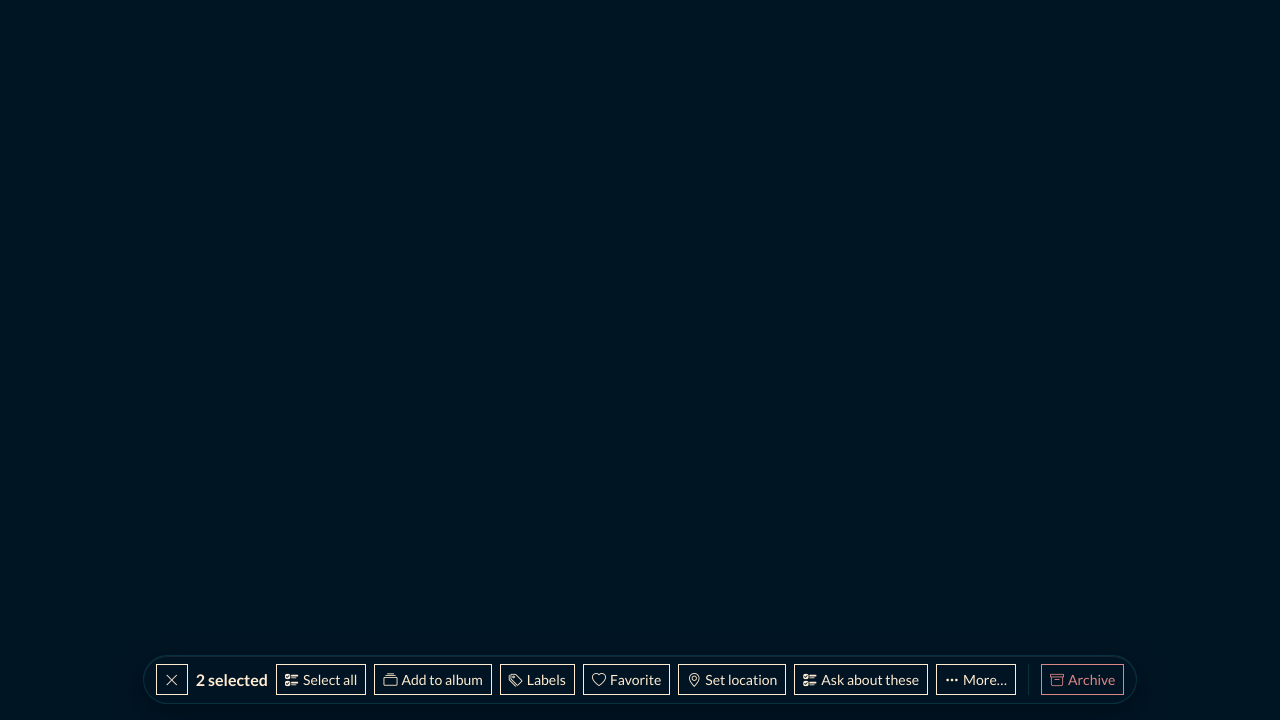
BatchActionBar › leaves the selection intact and toasts the reason when a batch fails
The image size is (1280, 720).
Click the button "Archive". click: (1083, 680)
box: x1=1041 y1=664 x2=1124 y2=695
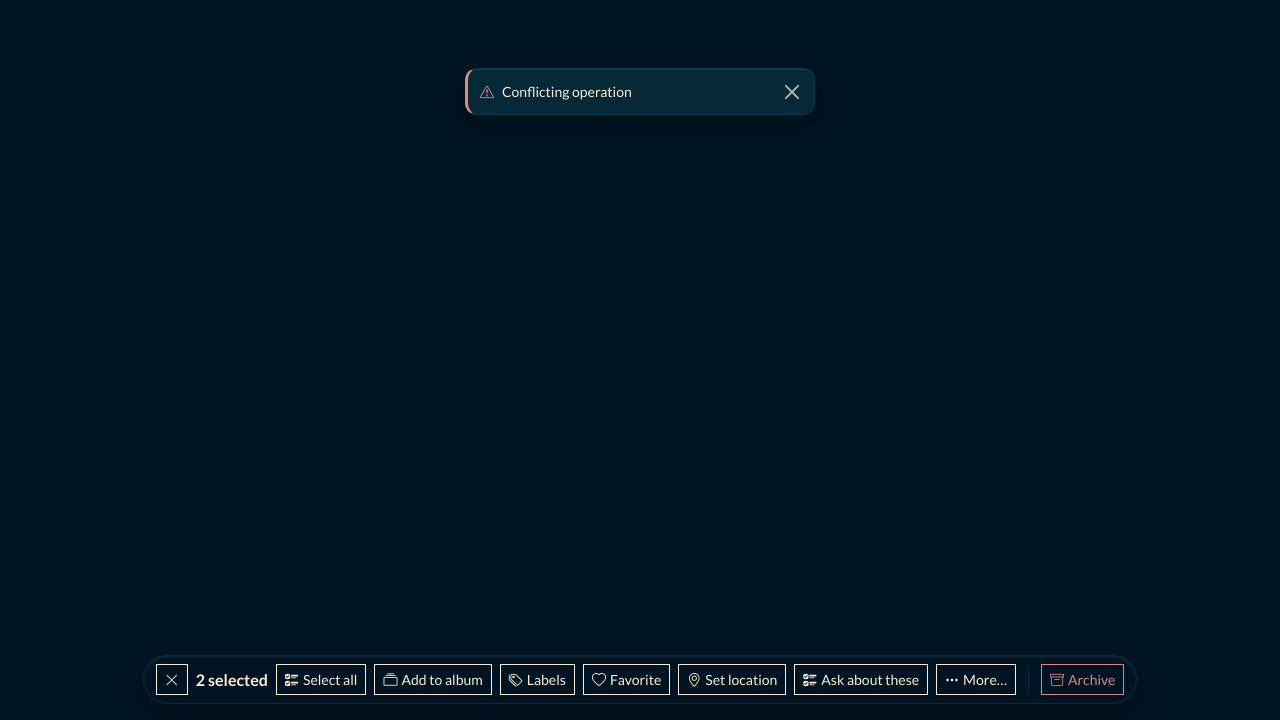
Expected: the text "Conflicting operation" is shown, x1=502 y1=81 x2=632 y2=102
